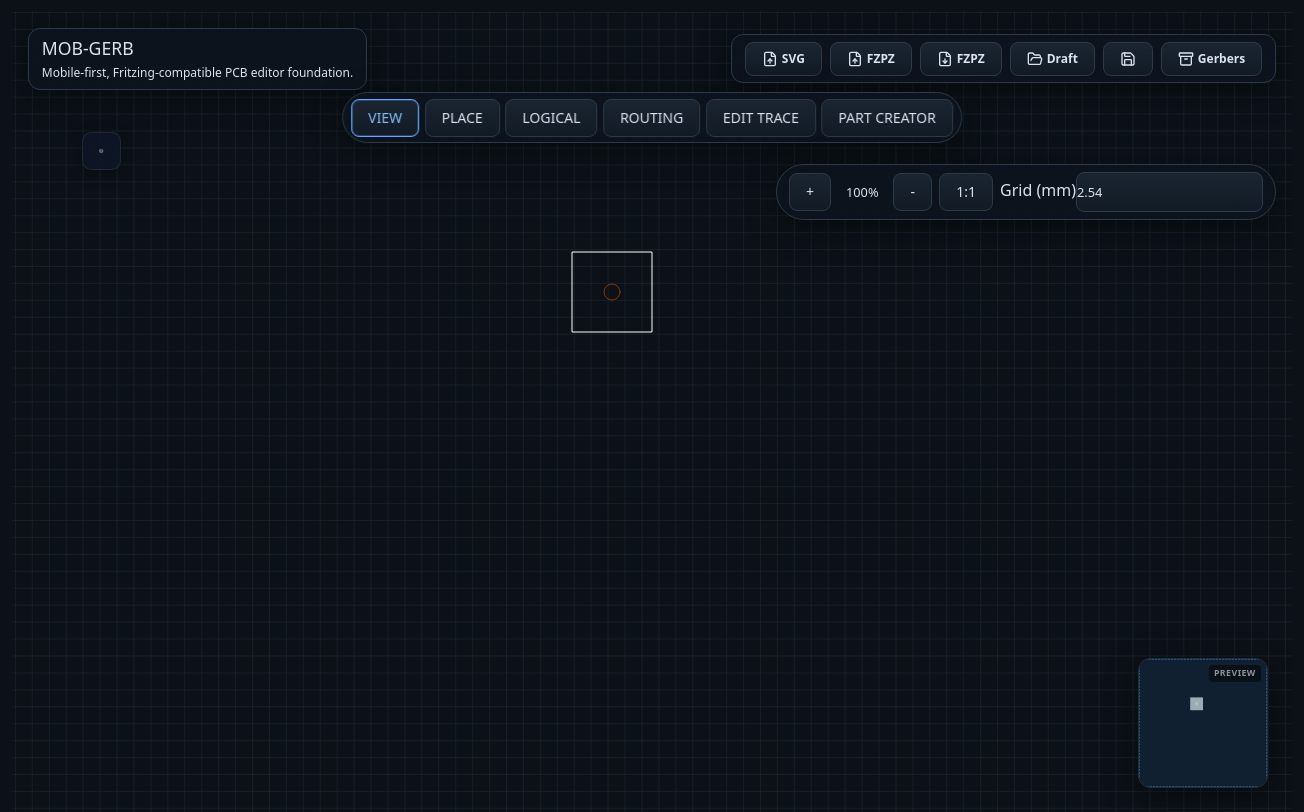
Test case: App integration › adds a pad and tags it as SMD through part creator controls
This screenshot has width=1304, height=812.
Click the button "PART CREATOR".
click(887, 118)  # box [822,99,953,137]
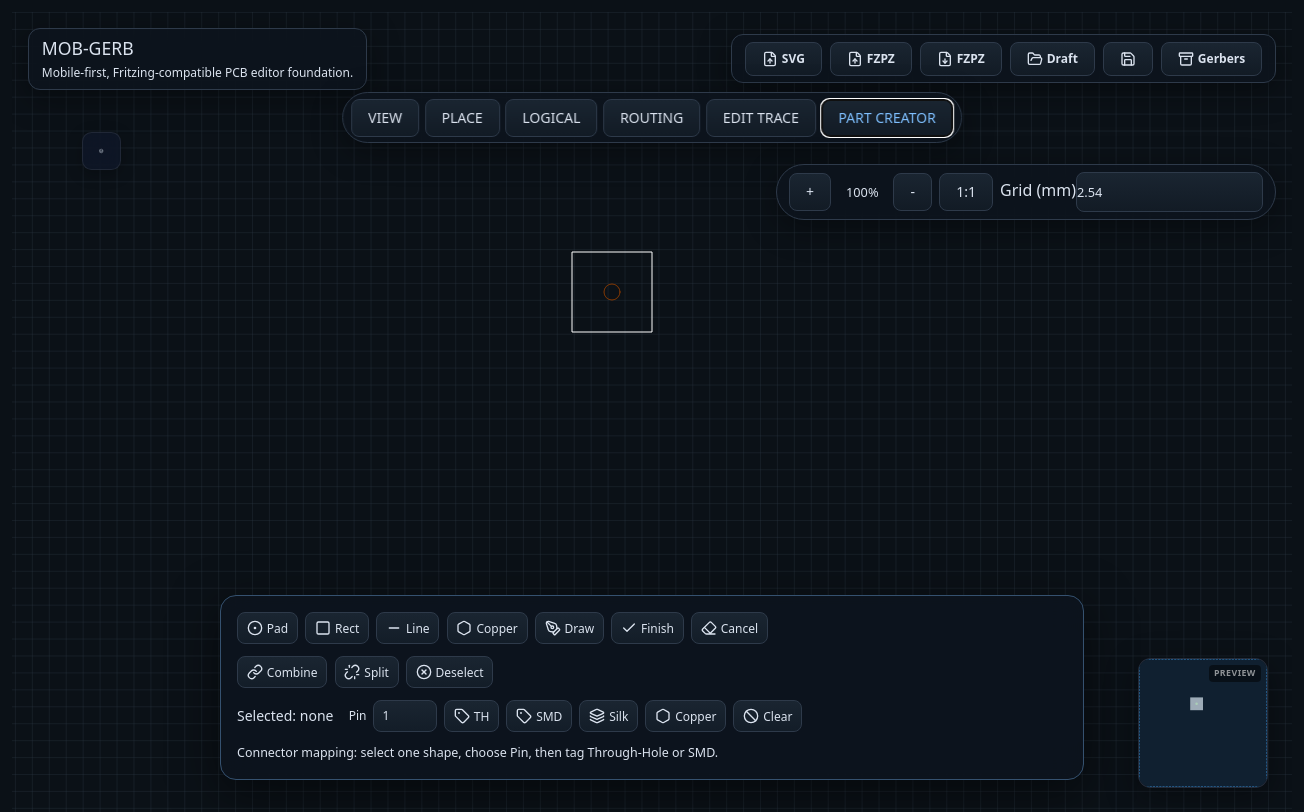
Click the button with aria-label "Add Pad (Circle)".
click(268, 628)  # box [237,612,298,644]
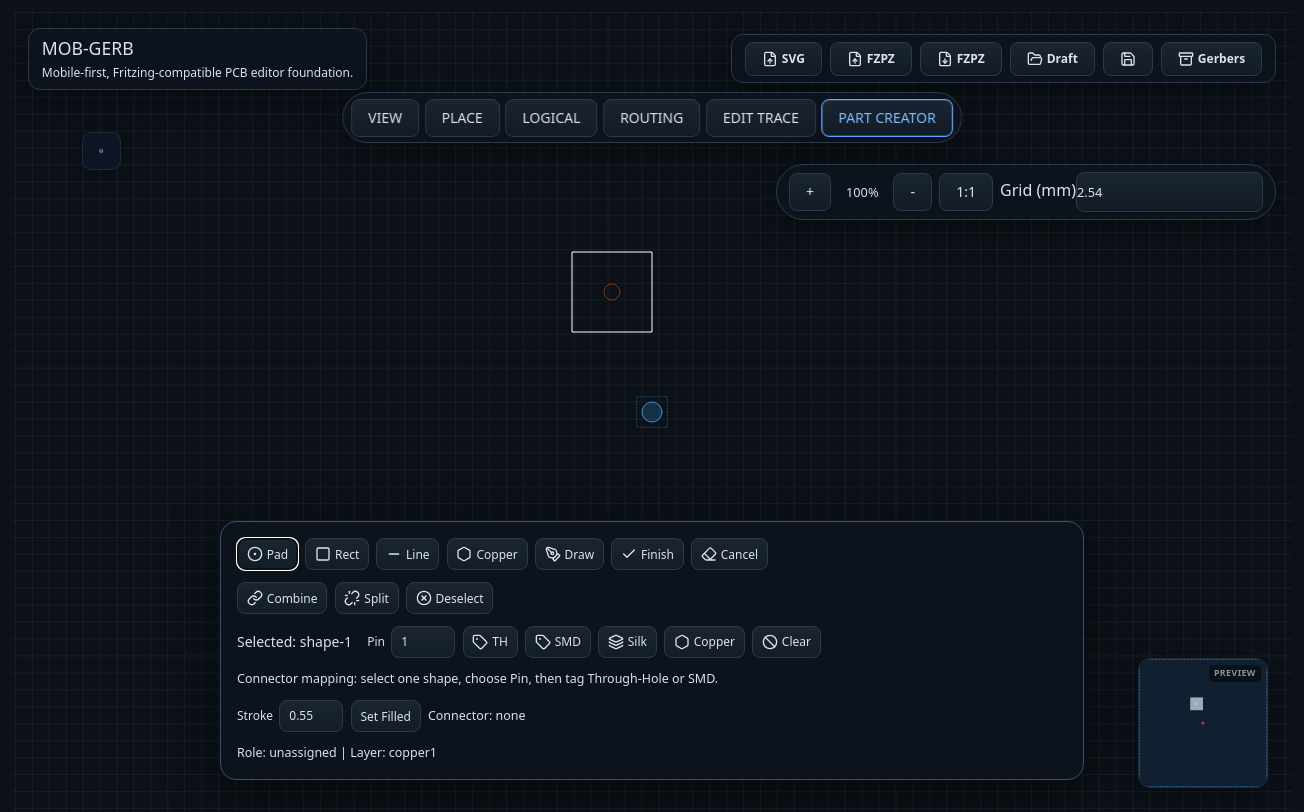
Replace the text in the number field labelled "Pin" with "7" at (423, 642), box [391,626,455,658]
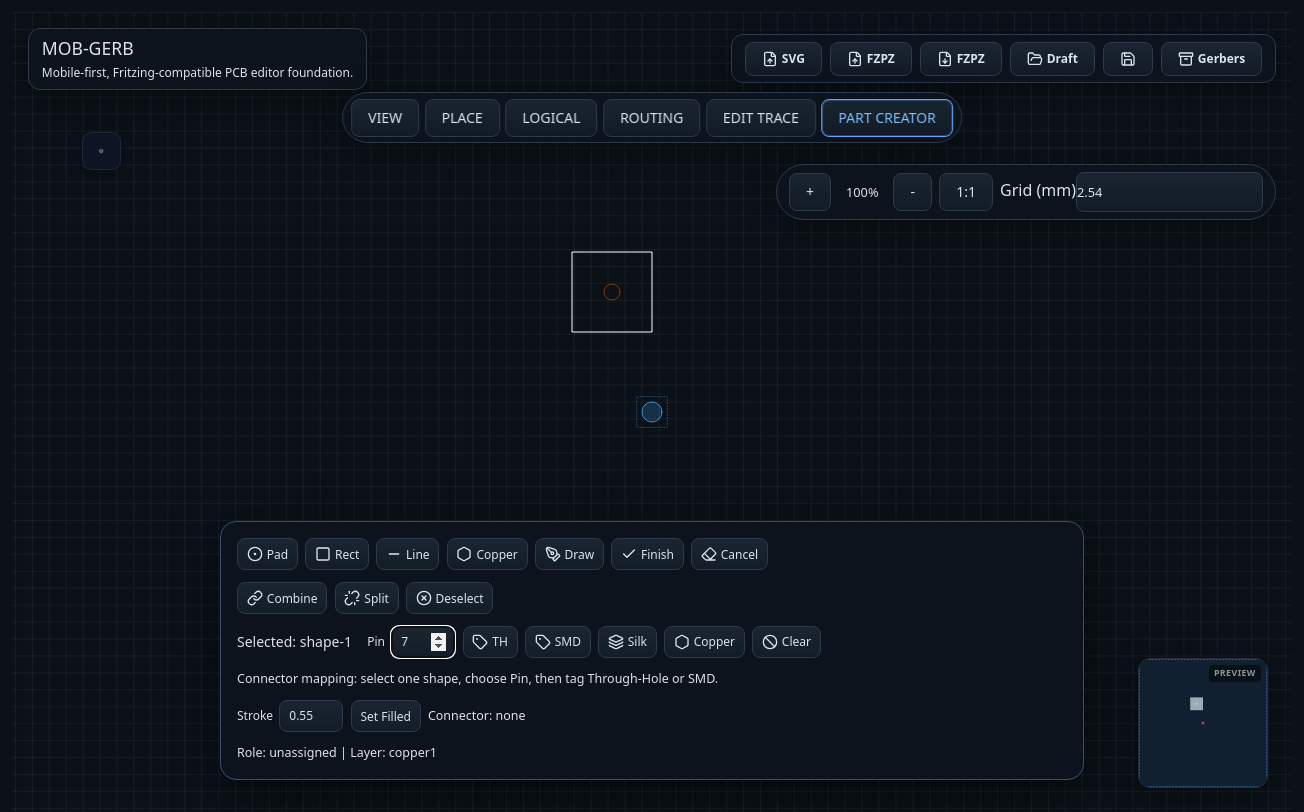
Click the button with aria-label "Tag SMD Pad".
click(558, 642)  # box [525,626,591,658]
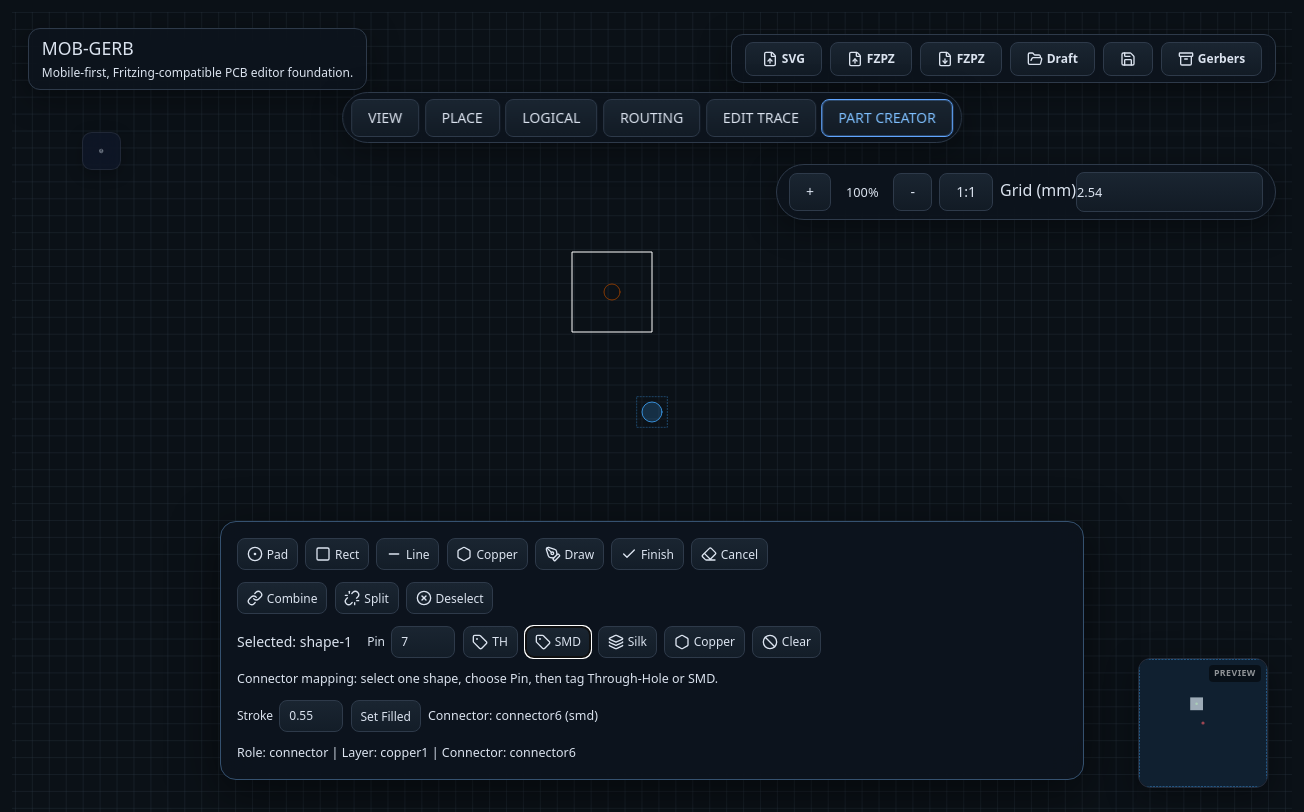
Now the text "Role: connector | Layer: copper1 | Connector: connector6" is shown, box [237,744,576,761]
Now the text "Connector: connector6 (smd)" is shown, box [428,707,598,726]
